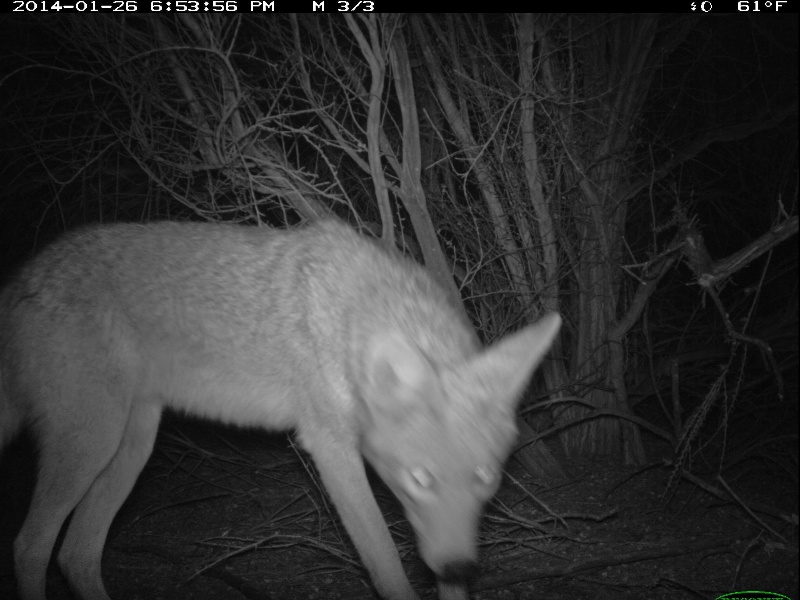coyote: (3, 210, 568, 599)
